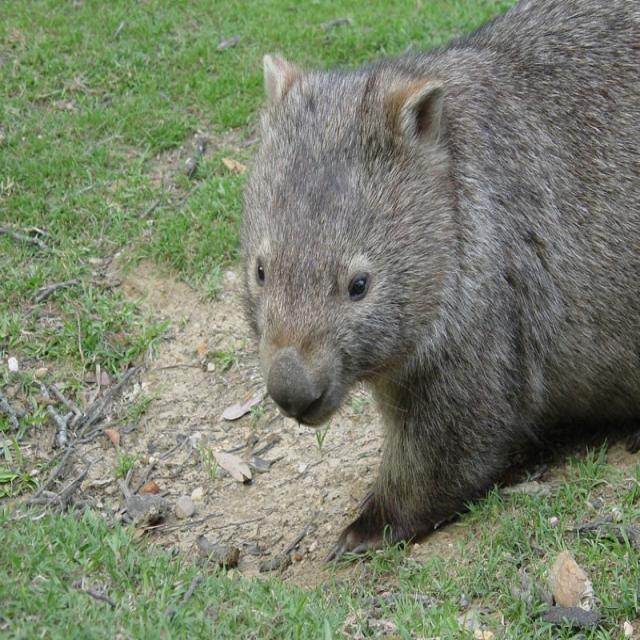wombats: (242, 0, 640, 559)
